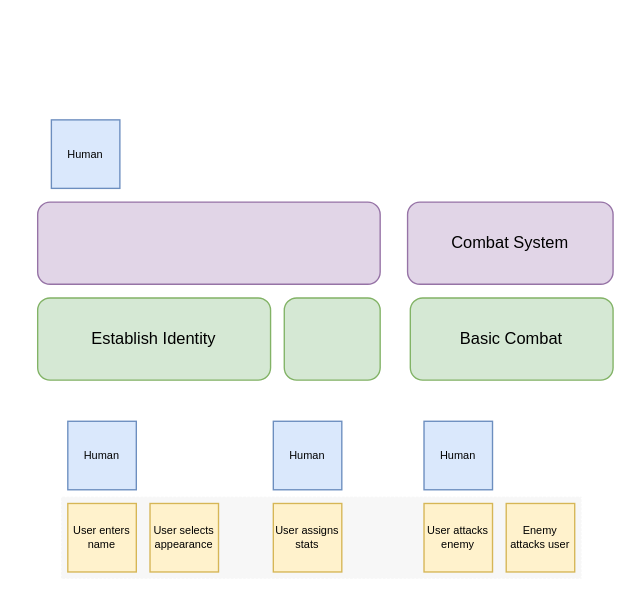
Image size: 637x603. Some labels were removed from this diagram. The shapes that lost their labels are listed below. From the top down, each one's centre as x and y in pixels, then its label:
At point 208,242: "Create Character".
At point 331,338: "Set Attributes".
